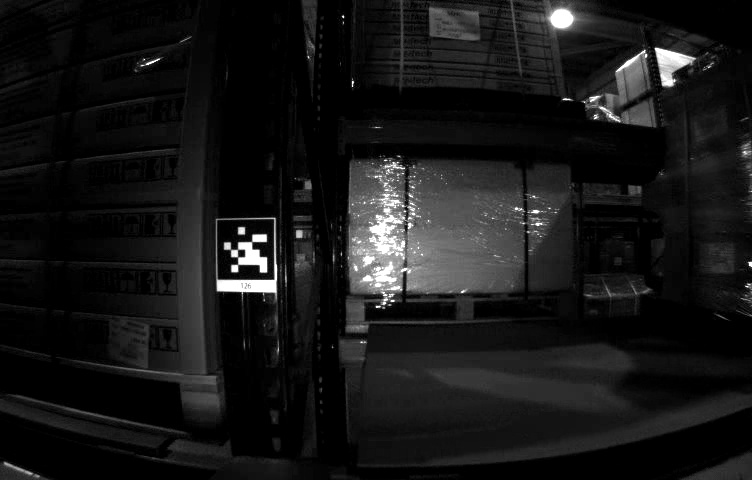True Barcode: (108, 317, 150, 369)
